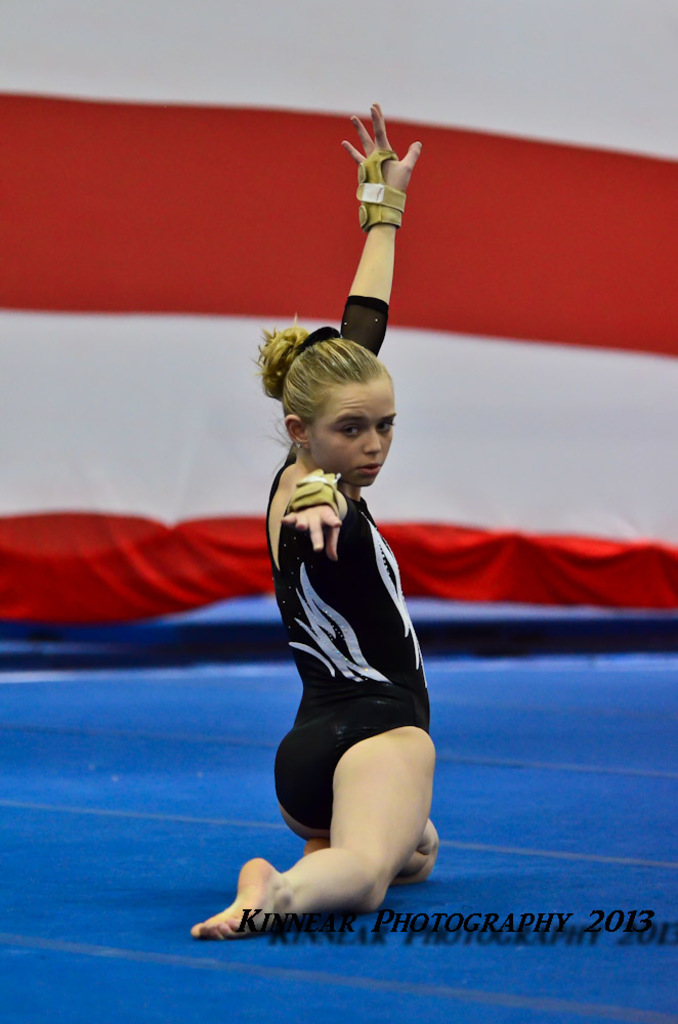Person: (190, 101, 441, 942)
